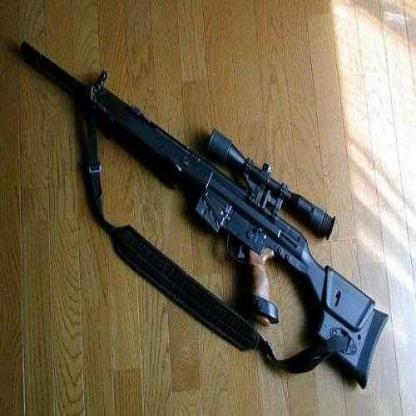rifle: (10, 18, 396, 396)
